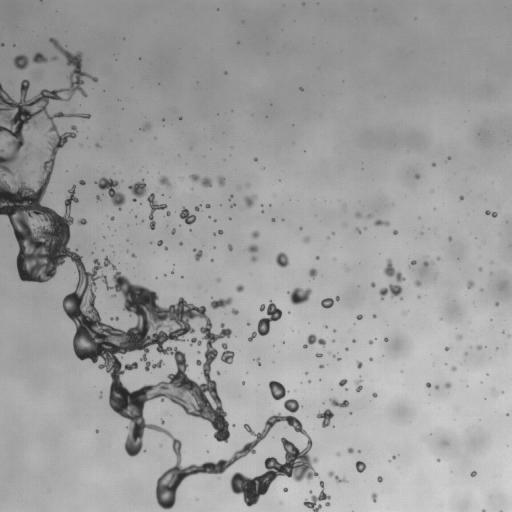droplet: (379, 259, 405, 299), (303, 481, 330, 511), (147, 193, 167, 229), (128, 179, 147, 201), (287, 287, 311, 304), (268, 380, 287, 400), (316, 409, 333, 427), (220, 343, 234, 364), (179, 207, 196, 224), (13, 54, 28, 69), (275, 252, 289, 267), (247, 244, 258, 261), (243, 194, 256, 208), (32, 52, 47, 63), (159, 176, 171, 187), (355, 461, 365, 473), (193, 249, 202, 261), (308, 268, 317, 278), (141, 123, 151, 131), (217, 176, 225, 186), (251, 231, 259, 239), (236, 284, 244, 292), (78, 218, 86, 225), (467, 280, 474, 288), (339, 379, 347, 386), (371, 493, 377, 502), (231, 308, 238, 315), (303, 236, 310, 242), (357, 360, 362, 368), (355, 212, 361, 218), (445, 382, 451, 388), (470, 470, 476, 476), (79, 180, 85, 185), (195, 205, 200, 211), (410, 260, 416, 265), (415, 280, 420, 286), (356, 314, 362, 319), (456, 334, 462, 339), (348, 447, 353, 453), (377, 476, 382, 482), (315, 353, 322, 357), (96, 196, 101, 201), (356, 228, 361, 233), (157, 240, 162, 245), (423, 261, 428, 266), (372, 392, 377, 397), (51, 56, 57, 60), (111, 317, 118, 320), (415, 174, 420, 178), (367, 214, 372, 218), (171, 229, 175, 234), (228, 245, 232, 250), (371, 282, 375, 287), (477, 345, 482, 349), (319, 364, 324, 368), (451, 366, 456, 370), (426, 382, 430, 387), (99, 392, 102, 398), (229, 195, 233, 199), (459, 195, 463, 199), (206, 204, 210, 208), (166, 211, 170, 215), (218, 230, 222, 234), (393, 230, 397, 234), (495, 302, 499, 306), (372, 314, 376, 318), (445, 346, 449, 350), (283, 487, 287, 491), (96, 144, 100, 147), (231, 203, 235, 206), (111, 216, 114, 220), (131, 254, 135, 257), (369, 340, 372, 344), (369, 357, 372, 361), (216, 371, 220, 374), (435, 385, 438, 389), (161, 419, 164, 423), (300, 87, 303, 90), (254, 158, 257, 161), (432, 163, 435, 166), (272, 218, 275, 221), (448, 237, 451, 240), (437, 257, 440, 260), (478, 267, 481, 270), (217, 278, 220, 281), (112, 294, 115, 297), (384, 338, 387, 341), (392, 456, 395, 459), (481, 509, 485, 511), (299, 227, 302, 229), (179, 242, 182, 244), (164, 247, 167, 249), (316, 256, 318, 259), (171, 271, 173, 274), (403, 311, 405, 314), (247, 322, 249, 325), (353, 339, 355, 342), (345, 348, 348, 350), (337, 358, 340, 360), (308, 380, 311, 382), (358, 450, 360, 453), (337, 452, 339, 455), (437, 459, 440, 461), (448, 157, 450, 159), (364, 227, 366, 229), (502, 331, 504, 333), (305, 372, 307, 374), (242, 382, 244, 384), (96, 430, 98, 432)
ligament: (0, 38, 317, 509), (248, 301, 282, 341), (96, 177, 125, 210), (303, 334, 326, 348), (189, 174, 212, 187), (210, 297, 232, 309), (321, 296, 339, 308), (328, 471, 347, 482), (329, 398, 348, 407), (374, 219, 389, 226), (355, 379, 362, 392), (485, 210, 497, 217), (254, 358, 260, 364)
